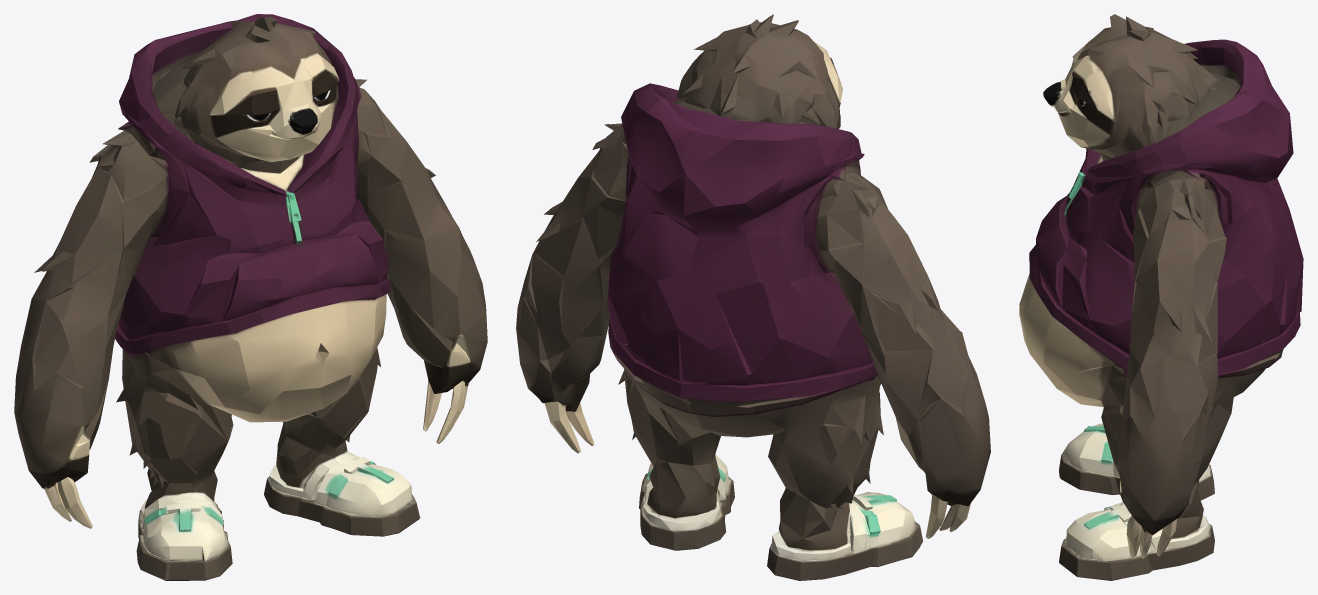
Rendered from source.glb.
3 views of the same model, side by side, from view 1: azimuth 30°, elevation 25°; view 2: azimuth 150°, elevation 25°; view 3: azimuth 270°, elevation 25° (orthographic). The views are drawn at different scales.
Size of the model in its own units: 1.79 by 1.9 by 0.9767.
Materials: 1 (1 with a texture image).
